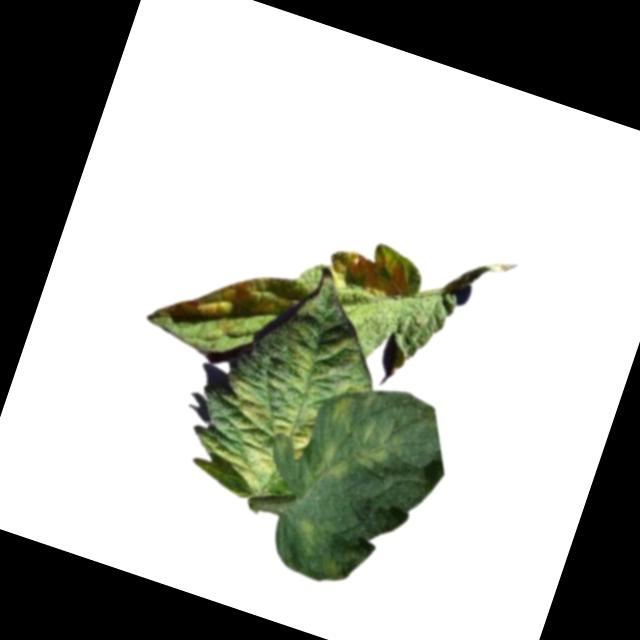Leaf_Mold: (144, 238, 304, 353), (192, 368, 322, 506), (305, 404, 405, 498), (320, 233, 417, 309), (281, 511, 357, 585), (323, 390, 360, 431)
